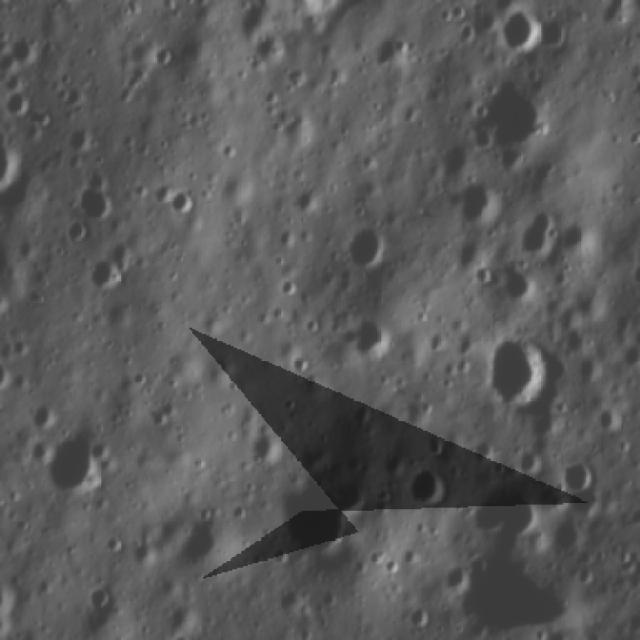crater: (451, 552, 584, 640), (269, 468, 371, 574), (481, 328, 562, 414), (472, 82, 556, 160), (38, 427, 113, 504), (164, 508, 236, 586), (213, 0, 379, 31), (468, 481, 542, 547), (66, 167, 120, 224), (338, 220, 392, 274), (511, 204, 563, 258), (456, 167, 507, 222), (492, 1, 542, 56), (233, 26, 293, 71), (343, 314, 397, 361), (489, 262, 542, 306), (0, 123, 26, 203), (80, 249, 123, 296), (409, 460, 453, 505), (6, 26, 48, 72), (366, 31, 408, 74), (242, 421, 281, 467), (164, 183, 205, 225), (0, 566, 23, 640), (80, 574, 118, 618), (558, 455, 596, 496), (591, 398, 631, 436), (29, 396, 60, 433), (33, 0, 92, 17), (288, 348, 317, 378), (150, 38, 178, 67), (623, 67, 640, 108), (631, 231, 640, 277), (487, 631, 525, 640), (168, 631, 198, 640)
